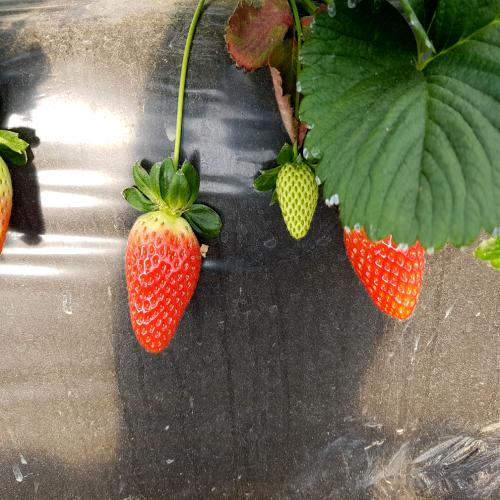ripe: (122, 205, 209, 359), (343, 209, 428, 326)
